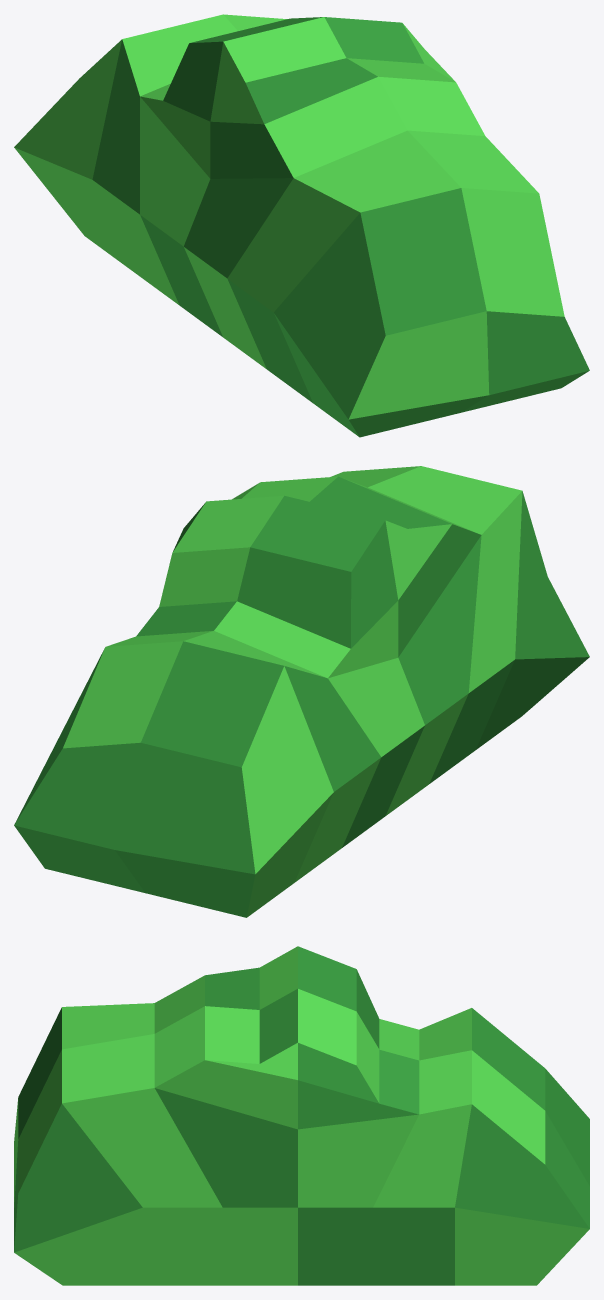
The model's file is Bush.fbx.
3 views of the same model, one above another, from view 1: azimuth 30°, elevation 25°; view 2: azimuth 150°, elevation 25°; view 3: azimuth 270°, elevation 25° (orthographic). The views are drawn at different scales.
Parts seen in each view (by area): view 1: Plane; view 2: Plane; view 3: Plane.
Boxes of the visible parts, x1,y1,x2,y2 form: Plane: [14, 14, 589, 437]; Plane: [14, 466, 589, 917]; Plane: [14, 946, 589, 1285].
Size of the model in its own units: 2.78 by 3.26 by 6.68.
